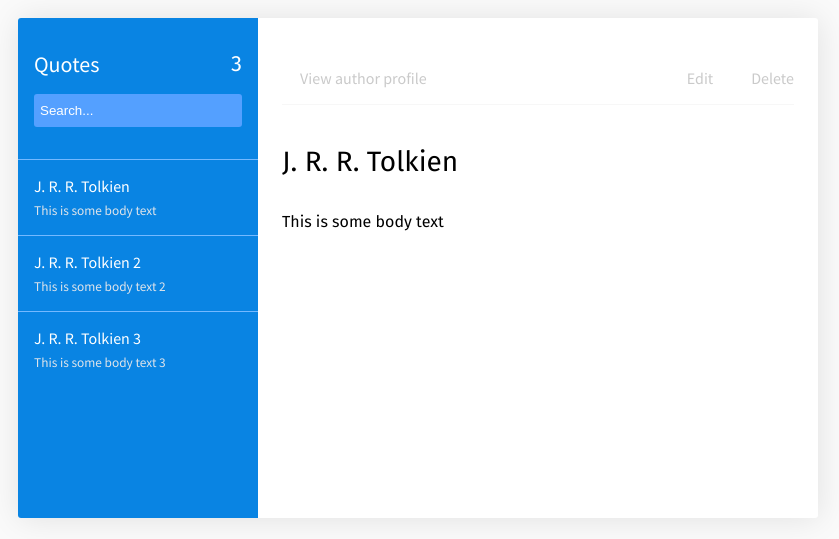
Quote Details › Deletes a quote
Click the link with test id "delete-link". click: (773, 78)
box: top-left (751, 68), bottom-right (794, 88)
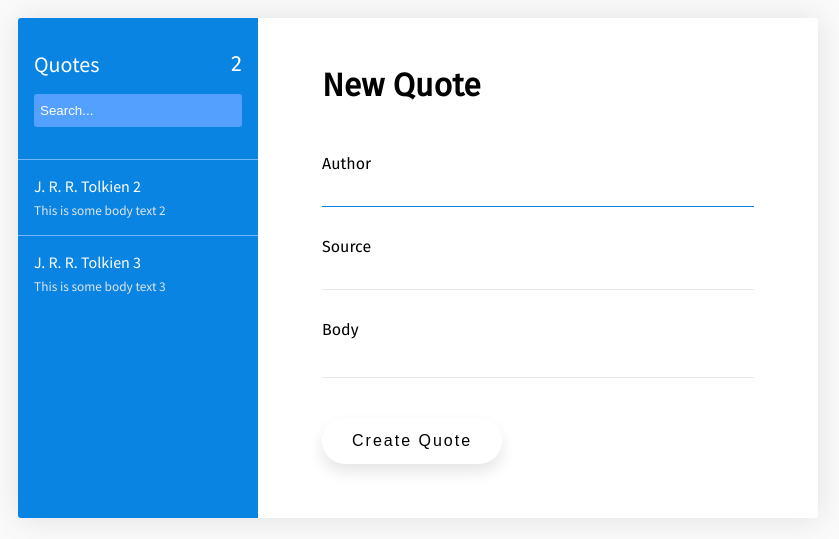
Expected: the number of list items is 2, top-left (34, 176), bottom-right (166, 219); top-left (18, 235), bottom-right (258, 311)
Expected: the text with test id "quotes-count" reads "2", top-left (231, 50), bottom-right (242, 78)
